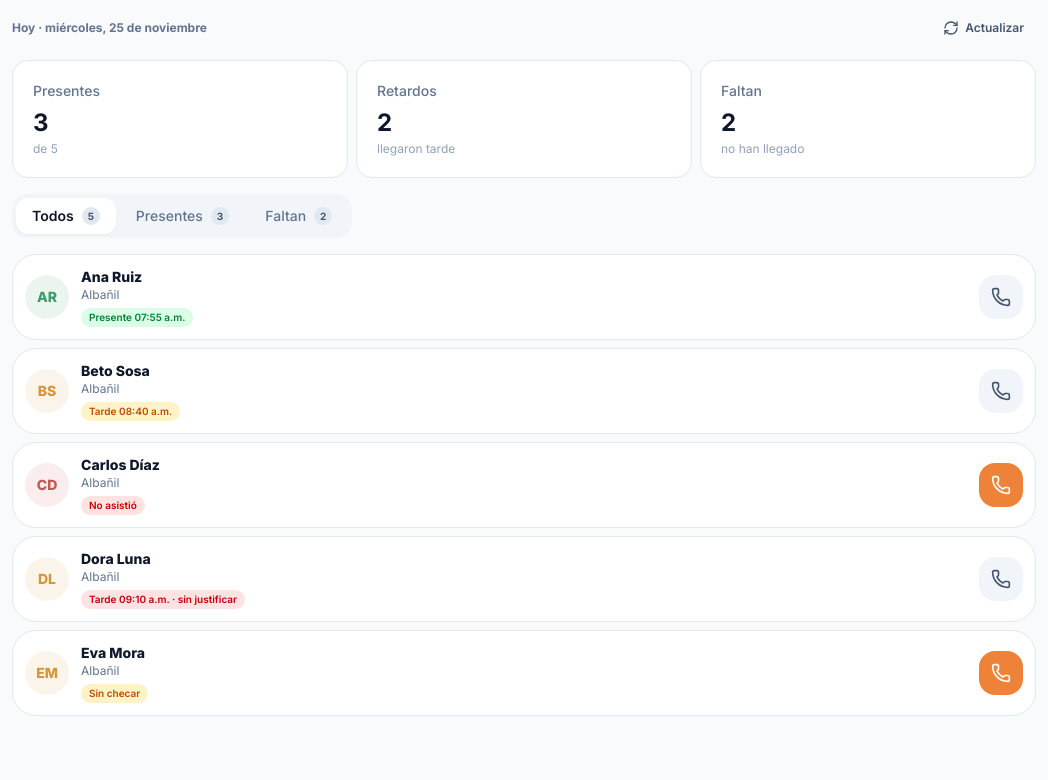
it: EquipoAsistencia › el filtro Faltan deja solo a quien no ha llegado
This screenshot has width=1048, height=780.
Click the button "Faltan 2" at (299, 216), box [249,198,348,234]
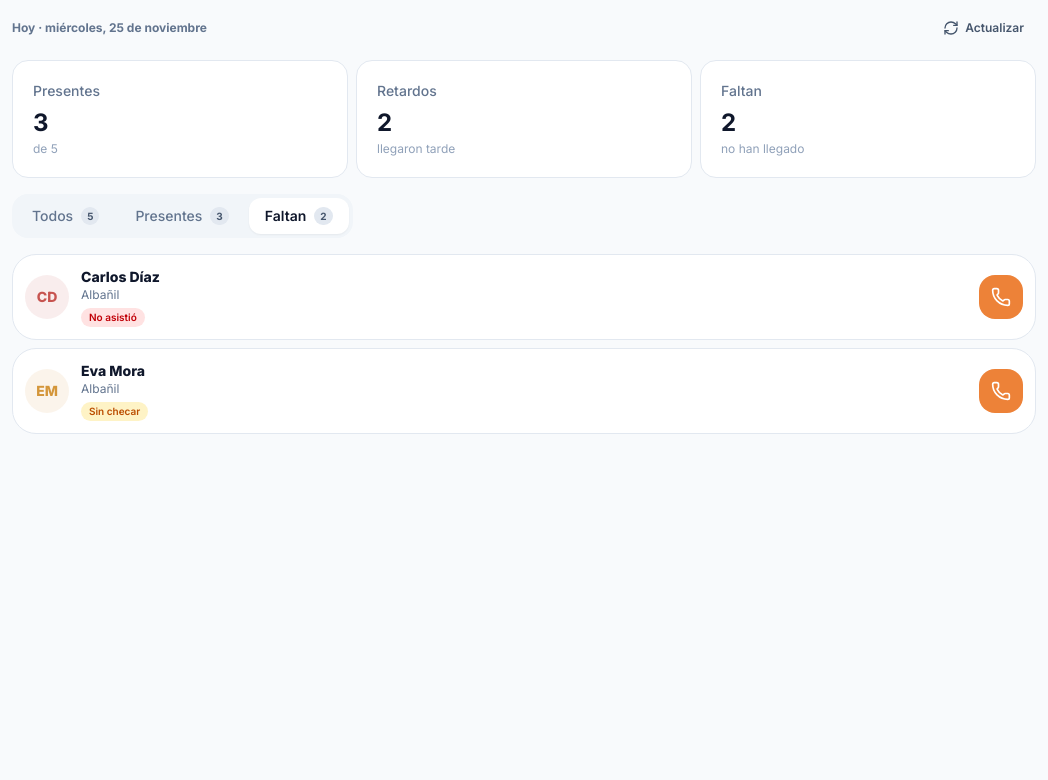
Expected: the text "Carlos Díaz" is shown, [81,268,160,285]
Expected: the text "Ana Ruiz" is gone
Expected: the text "Dora Luna" is gone
